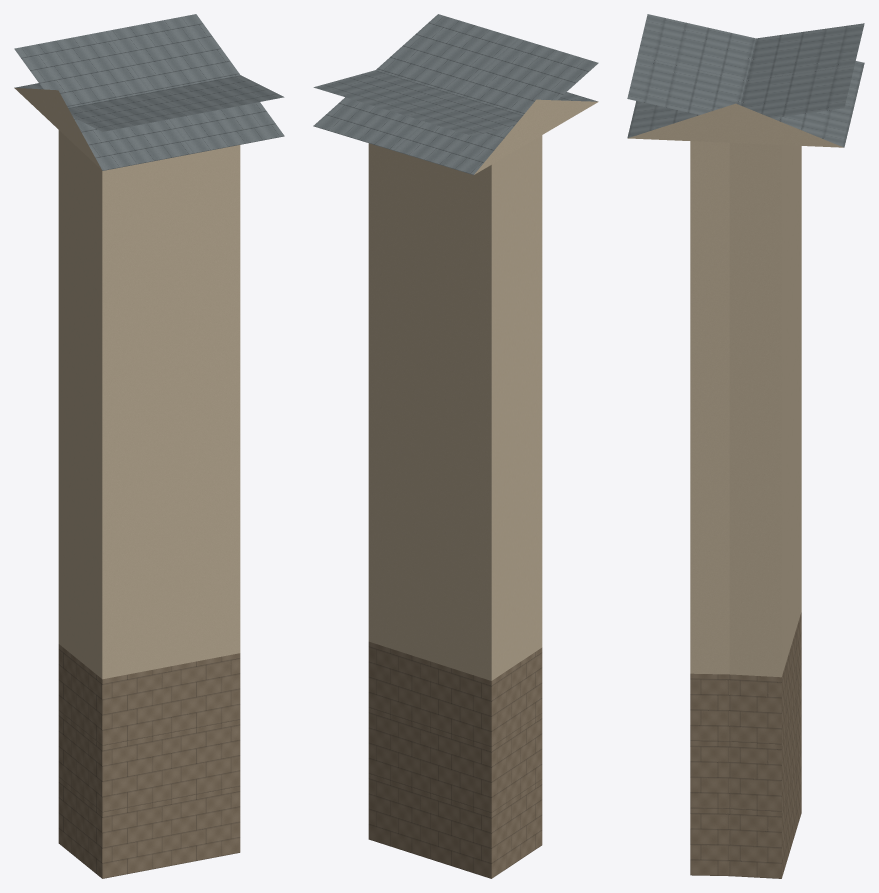
Rendered from bld_c-2_1_535.gltf.
The picture shows the model from 3 angles, left to right: view 1: azimuth 30°, elevation 25°; view 2: azimuth 150°, elevation 25°; view 3: azimuth 270°, elevation 25°; orthographic projection.
Visible parts, largest first — view 1: bld_c-2_1_535; view 2: bld_c-2_1_535; view 3: bld_c-2_1_535.
Boxes of the visible parts, bbox=[...] form: bld_c-2_1_535: bbox=[14, 14, 284, 878]; bld_c-2_1_535: bbox=[313, 14, 598, 878]; bld_c-2_1_535: bbox=[627, 14, 864, 878].
Bounding box in the file's own units: 5.11 × 19.8 × 5.44.
Materials: 4 (4 with a texture image).
